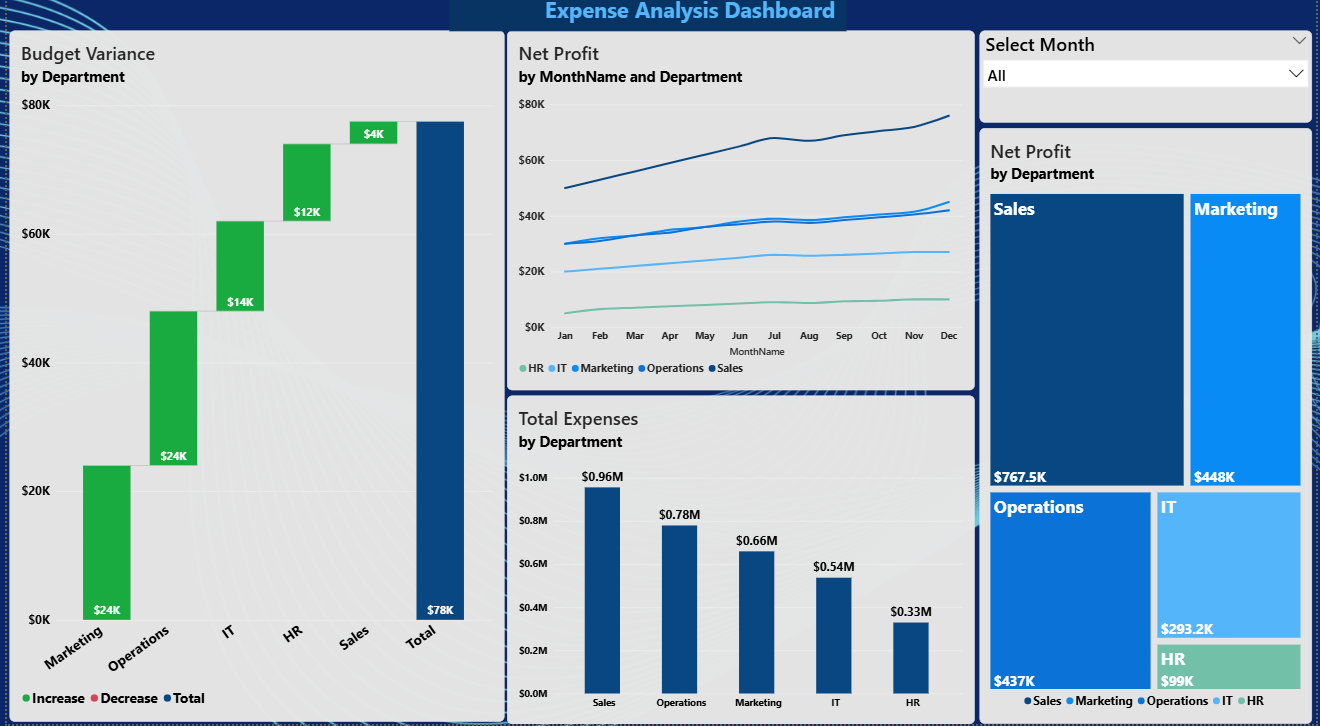

The page's visual inventory and layout, read from the dashboard file:
{"tool":"powerbi","page":{"name":"Expense Analysis","canvas":[1920,1080],"ordinal":2},"visuals":[{"type":"clusteredColumnChart","fields":{"Category":["Company_Finance.Department"],"Y":["Company_Finance.Total Expenses"]},"box":[734,597.5,686,482.5],"z":0},{"type":"lineChart","fields":{"Category":["Company_Finance.MonthName"],"Series":["Company_Finance.Department"],"Y":["Company_Finance.Net Profit"]},"box":[734,62.5,686,528],"z":1000},{"type":"treemap","fields":{"Group":["Company_Finance.Department"],"Values":["Company_Finance.Net Profit"]},"box":[1427,205,488,874],"z":2000},{"type":"waterfallChart","fields":{"Category":["Company_Finance.Department"],"Y":["Company_Finance.Budget Variance"]},"box":[3,62.5,726,1014],"z":3000},{"type":"slicer","fields":{"Values":["Company_Finance.MonthName"]},"box":[1427,63,488,135],"z":4000},{"type":"textbox","box":[650,8.7,582.2,54.1],"z":5000}]}

Visuals, with their boxes in screenshot pixels (x1, y1, x2, y2), scaled from the page's 1920x1080 canvas onto the 1320x726 screenshot:
clusteredColumnChart - Company_Finance.Department x Company_Finance.Total Expenses: bbox=[505, 402, 976, 725]
lineChart - Company_Finance.MonthName x Company_Finance.Department: bbox=[505, 42, 976, 397]
treemap - Company_Finance.Department x Company_Finance.Net Profit: bbox=[981, 138, 1317, 725]
waterfallChart - Company_Finance.Department x Company_Finance.Budget Variance: bbox=[2, 42, 501, 724]
slicer - Company_Finance.MonthName: bbox=[981, 42, 1317, 133]
textbox: bbox=[447, 6, 847, 42]
